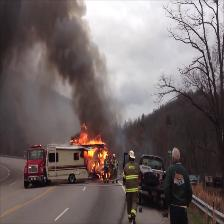fire: (77, 130, 108, 169)
smoke: (50, 3, 105, 129), (0, 2, 45, 44)
